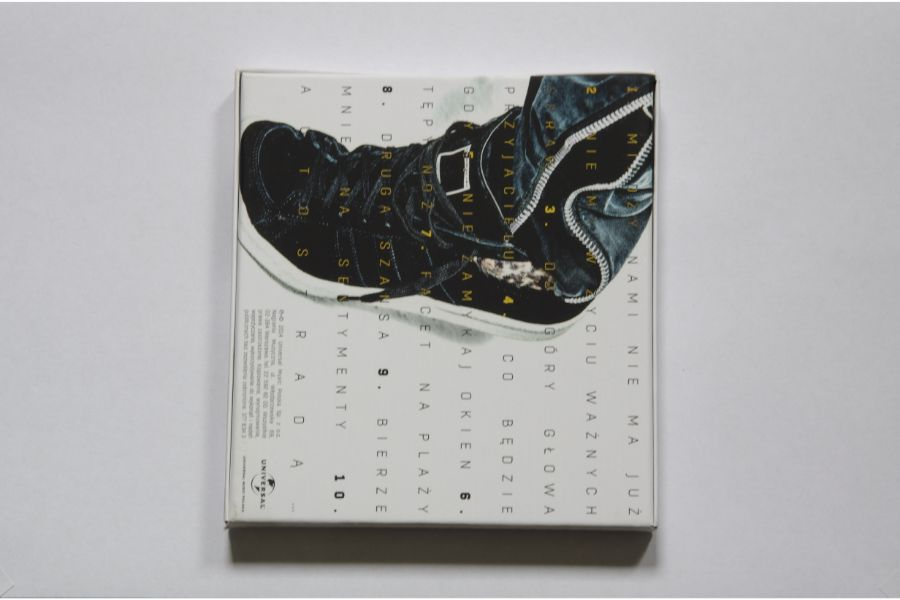album: (223, 66, 660, 532)
